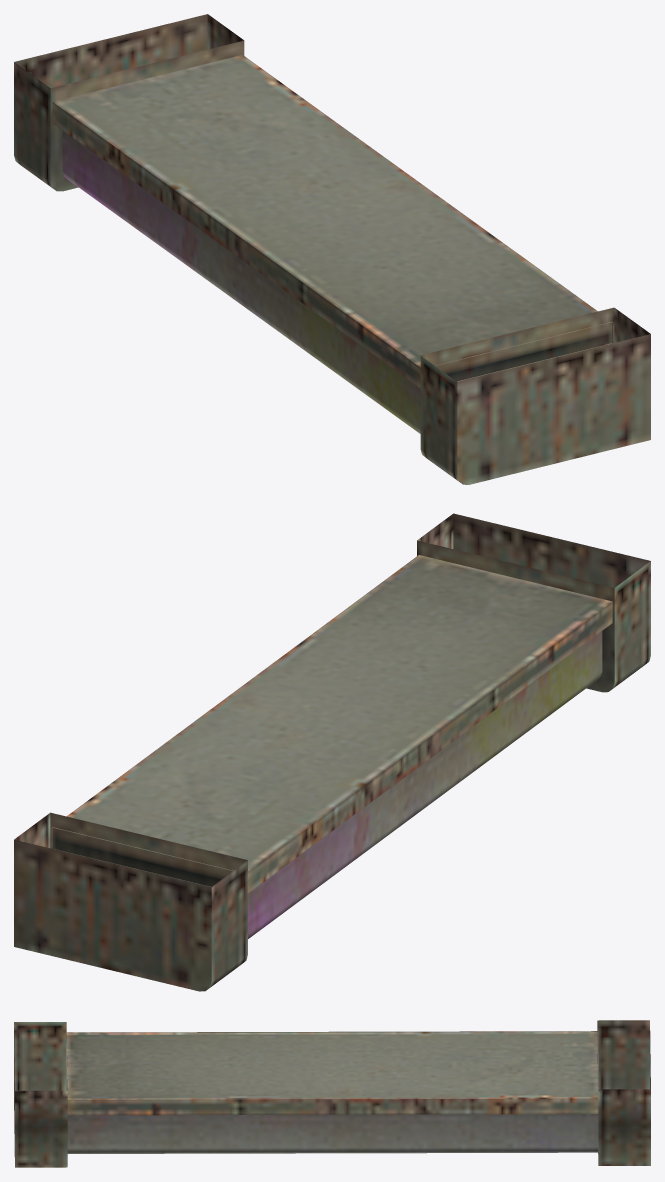
File: sm0536_toplight.fbx
The picture shows the model from 3 angles, top to bottom: view 1: azimuth 30°, elevation 25°; view 2: azimuth 150°, elevation 25°; view 3: azimuth 270°, elevation 25°; orthographic projection. The views are drawn at different scales.
Visible parts, largest first — view 1: LOD_1_Group_0_Sub_2__sm0536_toplight_A_Mat, LOD_1_Group_0_Sub_1__sm0536_toplight_B_Mat; view 2: LOD_1_Group_0_Sub_2__sm0536_toplight_A_Mat, LOD_1_Group_0_Sub_1__sm0536_toplight_B_Mat; view 3: LOD_1_Group_0_Sub_2__sm0536_toplight_A_Mat, LOD_1_Group_0_Sub_1__sm0536_toplight_B_Mat.
Part boxes in pixels (x1,y1,x2,y2): LOD_1_Group_0_Sub_2__sm0536_toplight_A_Mat: (14, 14, 650, 484); LOD_1_Group_0_Sub_1__sm0536_toplight_B_Mat: (62, 131, 603, 433); LOD_1_Group_0_Sub_2__sm0536_toplight_A_Mat: (14, 513, 650, 991); LOD_1_Group_0_Sub_1__sm0536_toplight_B_Mat: (61, 631, 602, 938); LOD_1_Group_0_Sub_2__sm0536_toplight_A_Mat: (14, 1020, 650, 1167); LOD_1_Group_0_Sub_1__sm0536_toplight_B_Mat: (66, 1068, 598, 1153).
Bounding box in the file's own units: 57.75 × 29.38 × 221.
